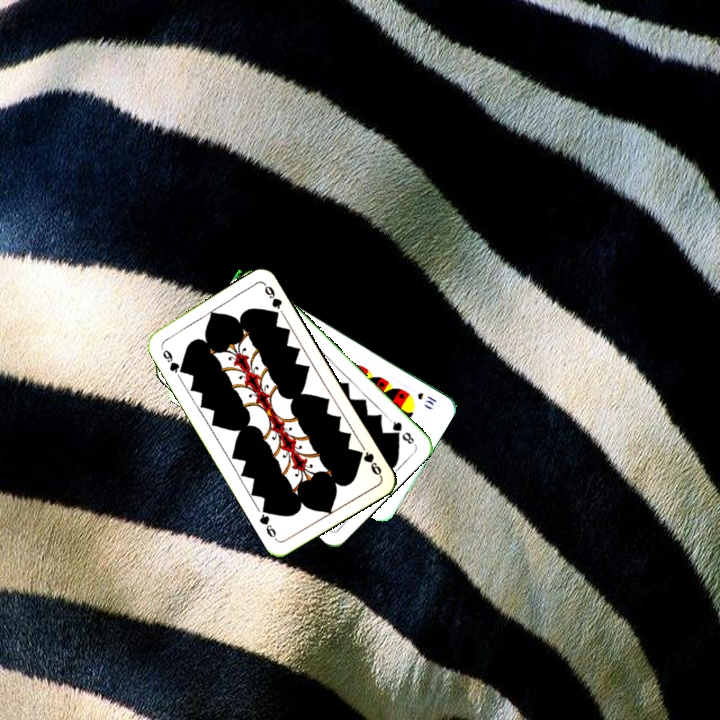G8: (385, 415, 417, 447)
G9: (157, 343, 187, 380), (353, 446, 384, 479)
S10: (413, 388, 439, 408)
